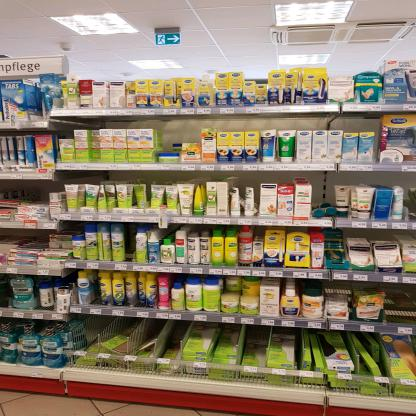Void: (390, 289, 416, 326), (165, 116, 195, 140), (310, 170, 333, 201), (19, 183, 39, 200), (16, 235, 46, 245), (125, 230, 134, 262)
